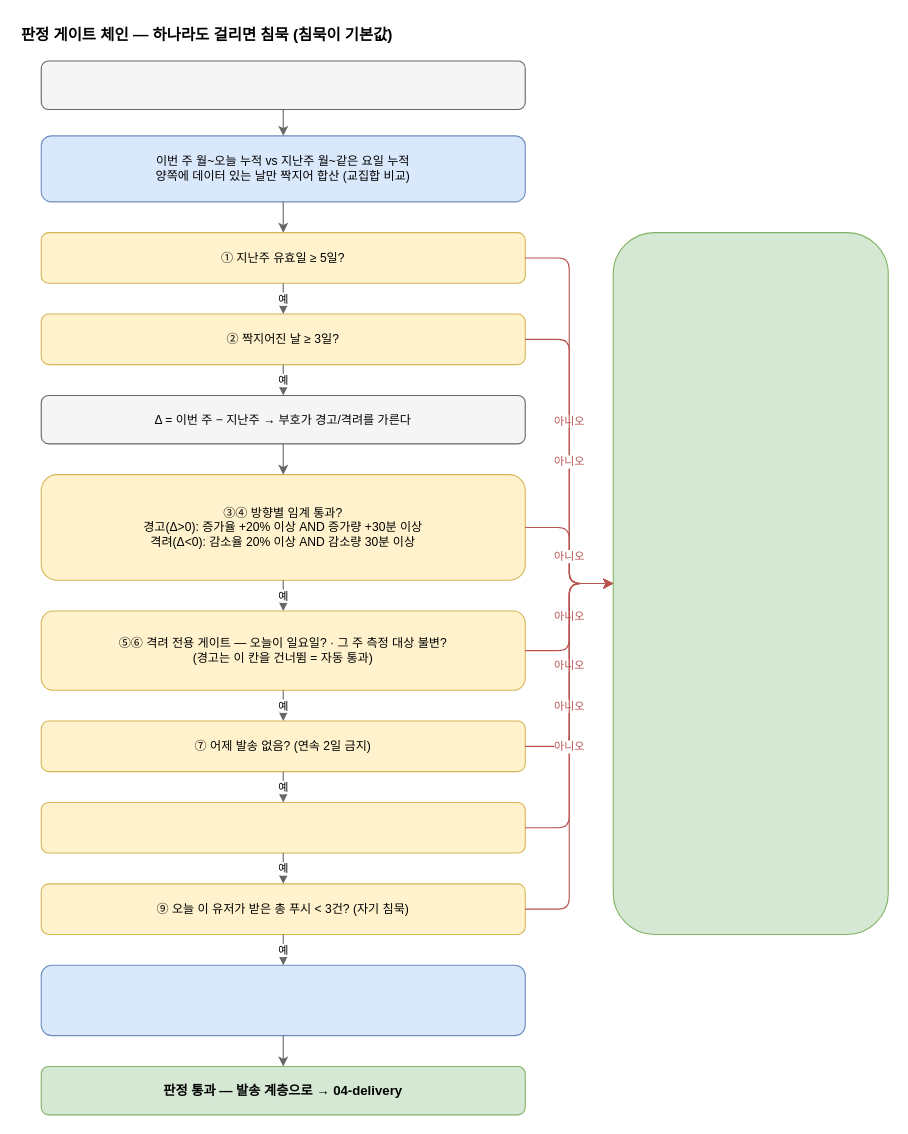
Image size: 908x1134. Some labels were removed from this diagram. Each missing label, with the box of its shape:
⑧ 이번 주 발송 < 3회? (경고+격려 합산 · notification_sent_logs): (40, 801, 525, 853)
매일 21:00 (KST) 크론 — 유저마다 판정 시작: (40, 60, 525, 109)
문구 축 하나만 선택 격려 → 주 총합(일요일) → 같은 요일(오늘 급증) → 누적(기본): (40, 964, 525, 1036)
침묵 = 정상 동작 보내지 않는 것이 실패가 아니다: (612, 232, 888, 934)
